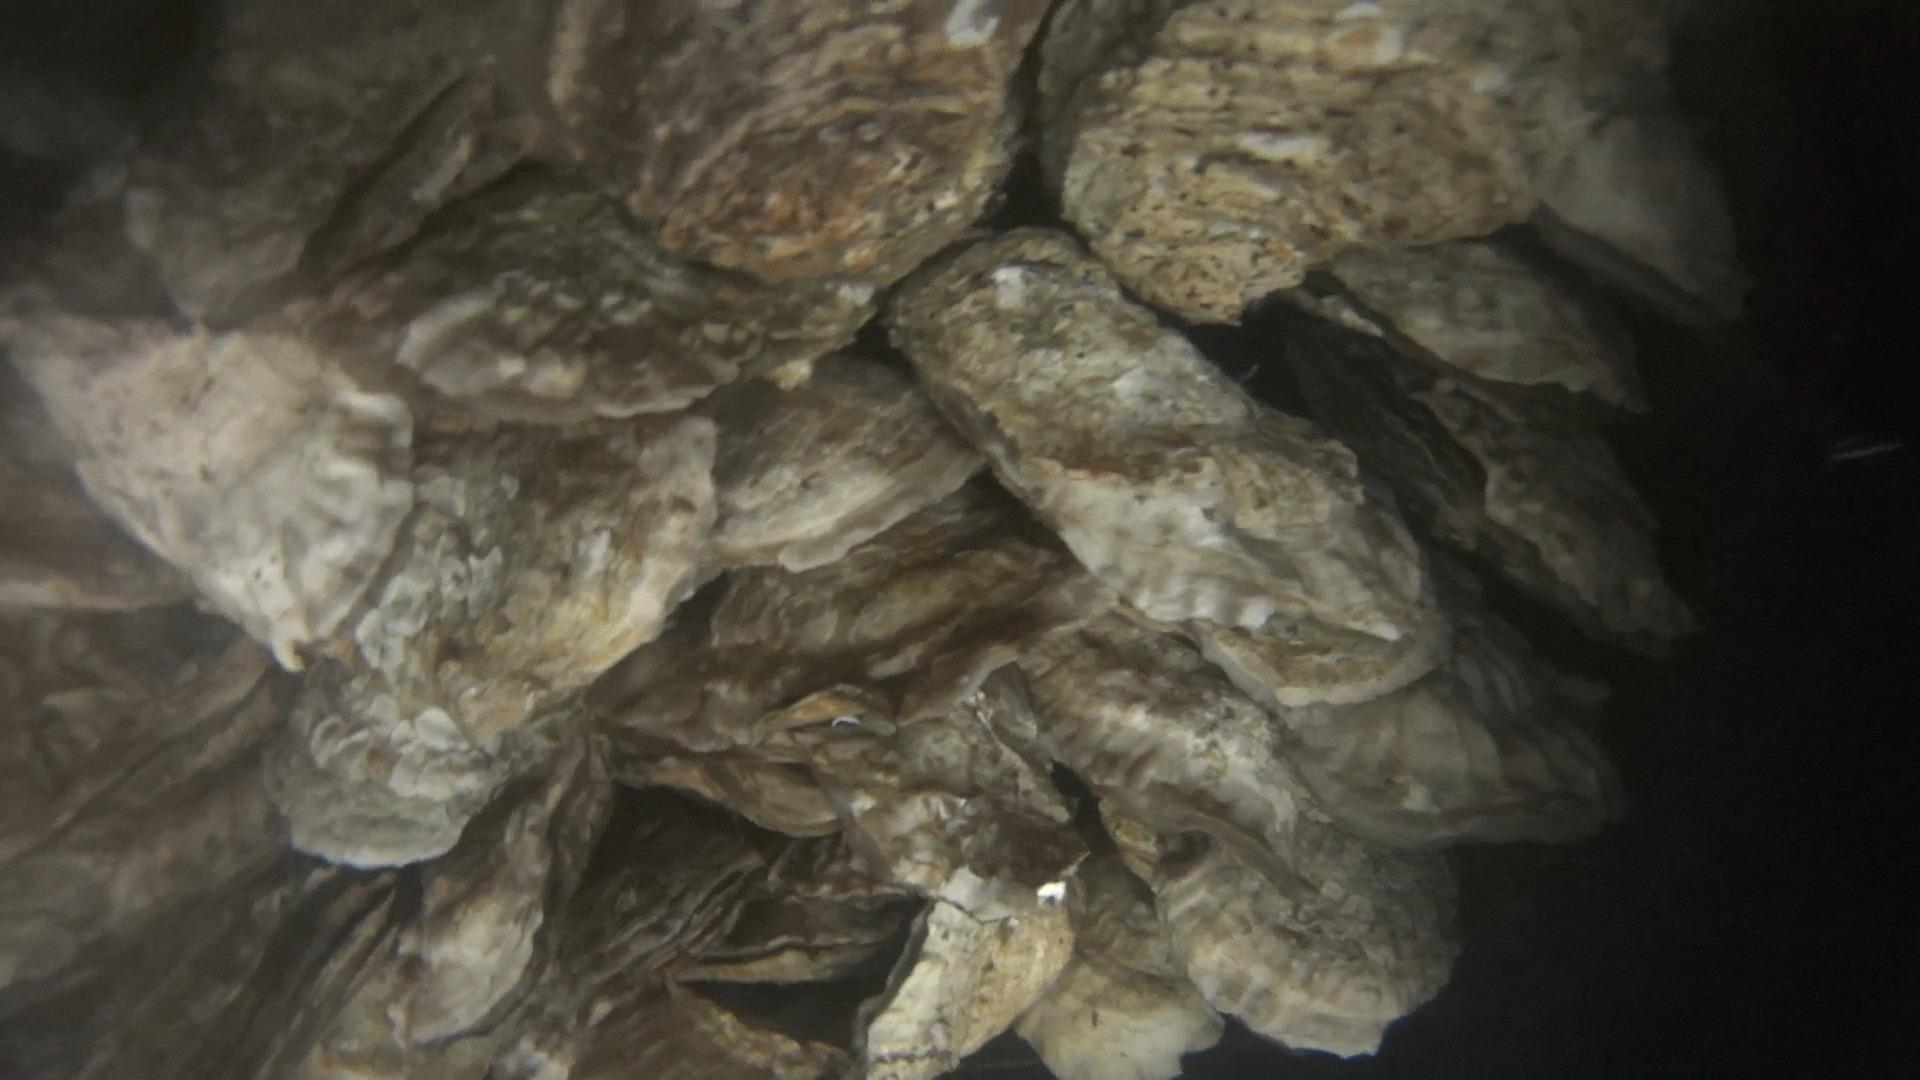3: (1247, 303, 1701, 640), (1284, 249, 1644, 411), (570, 787, 790, 1029), (1530, 107, 1764, 326), (667, 899, 905, 982)
Oyster- Indeterminate: (272, 417, 717, 870), (11, 316, 422, 671), (574, 0, 1052, 282), (313, 156, 773, 433), (666, 472, 1087, 712), (1039, 674, 1443, 889), (712, 349, 984, 574), (1015, 866, 1224, 1080)
Oyster-Closed: (886, 227, 1448, 717), (1273, 636, 1623, 848), (1168, 829, 1462, 1056)
